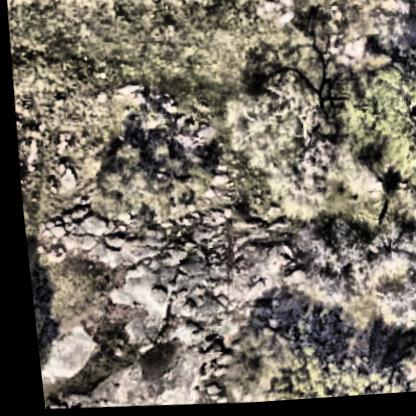tree-top: (209, 77, 348, 223), (272, 219, 416, 334), (62, 126, 208, 236), (199, 307, 330, 407), (337, 68, 416, 206), (316, 327, 416, 401), (361, 0, 416, 50), (26, 298, 56, 382)
